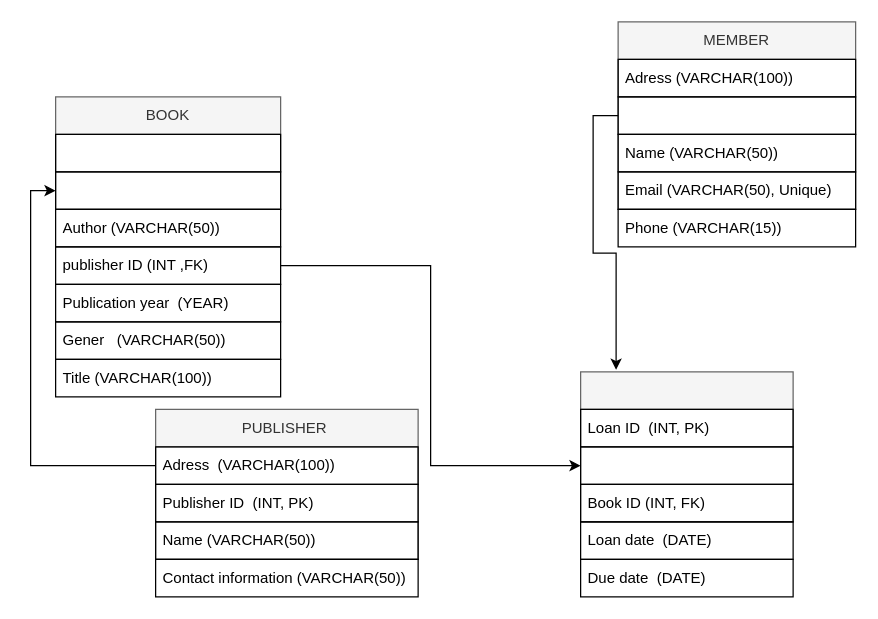
Image size: 878x619. Some labels were removed from this diagram. The shapes that lost their labels are listed below. From the top down, each one's box as (x1, y1, x2, y2) in pixels, then its label:
(617, 96, 856, 134): Member ID(INT ,PK)
(54, 133, 281, 172): ISBN (VARCHAR(13), PK)
(54, 171, 281, 209): Book ID (INT,PK)
(579, 371, 793, 522): LOANS
(579, 446, 793, 484): Member ID (INT ,FK)
